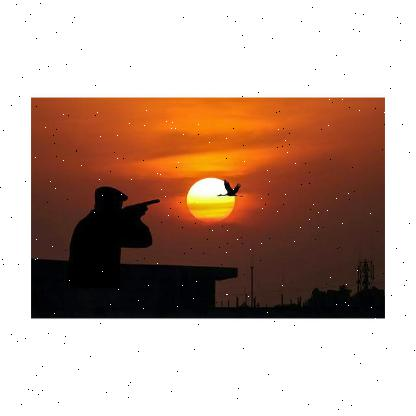gun: (116, 196, 162, 224)
